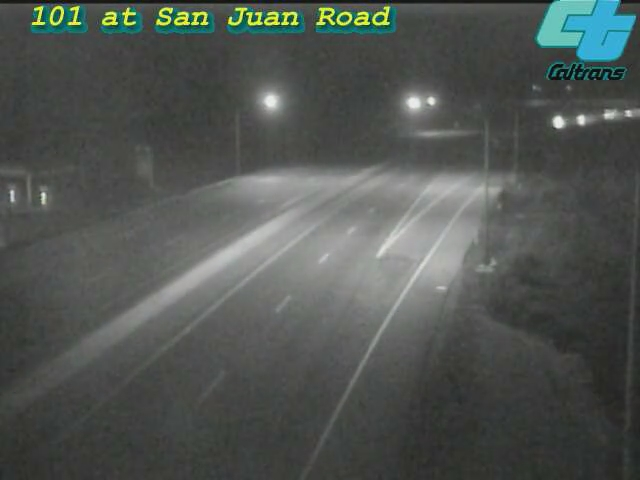vehicle: (583, 90, 633, 140), (556, 96, 606, 146), (534, 98, 584, 148), (593, 85, 640, 135), (605, 87, 640, 137)
